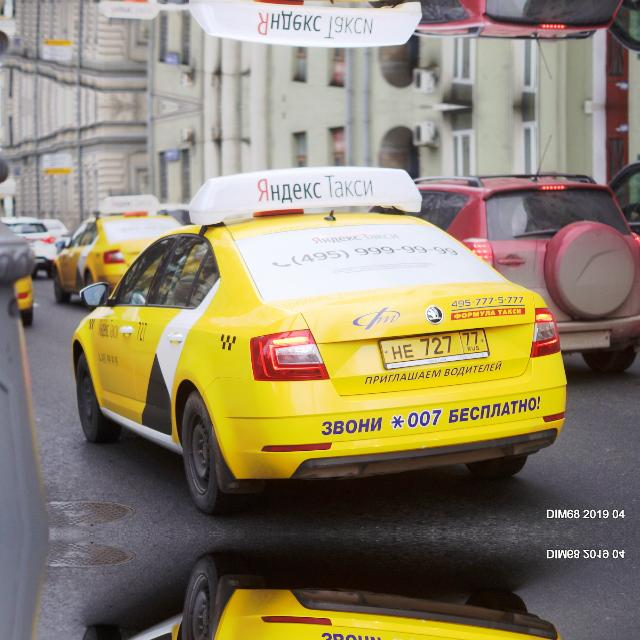citizen: (552, 322, 616, 354)
taxi: (375, 323, 493, 371)
